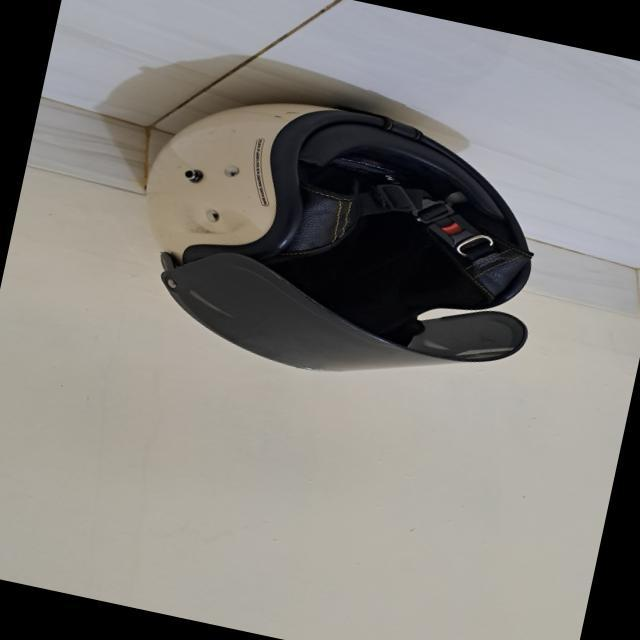Helm: (81, 65, 576, 429)
